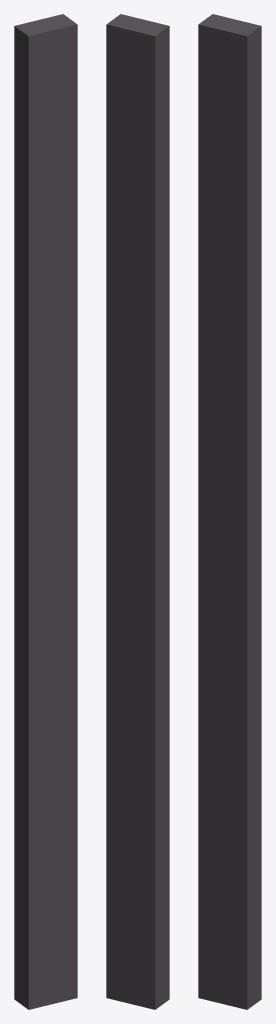
The model's file is factory_window_part_2.fbx.
3 renders of one model, left to right at view 1: azimuth 30°, elevation 25°; view 2: azimuth 150°, elevation 25°; view 3: azimuth 330°, elevation 25°, orthographic.
Parts seen in each view (by area): view 1: factory_window_part_2; view 2: factory_window_part_2; view 3: factory_window_part_2.
Boxes of the visible parts, box(x1,y1,x2,y2) form: factory_window_part_2: box(14, 14, 77, 1009); factory_window_part_2: box(106, 14, 169, 1009); factory_window_part_2: box(198, 14, 261, 1009).
Bounding box in the file's own units: 3.71 × 70.71 × 1.88.
